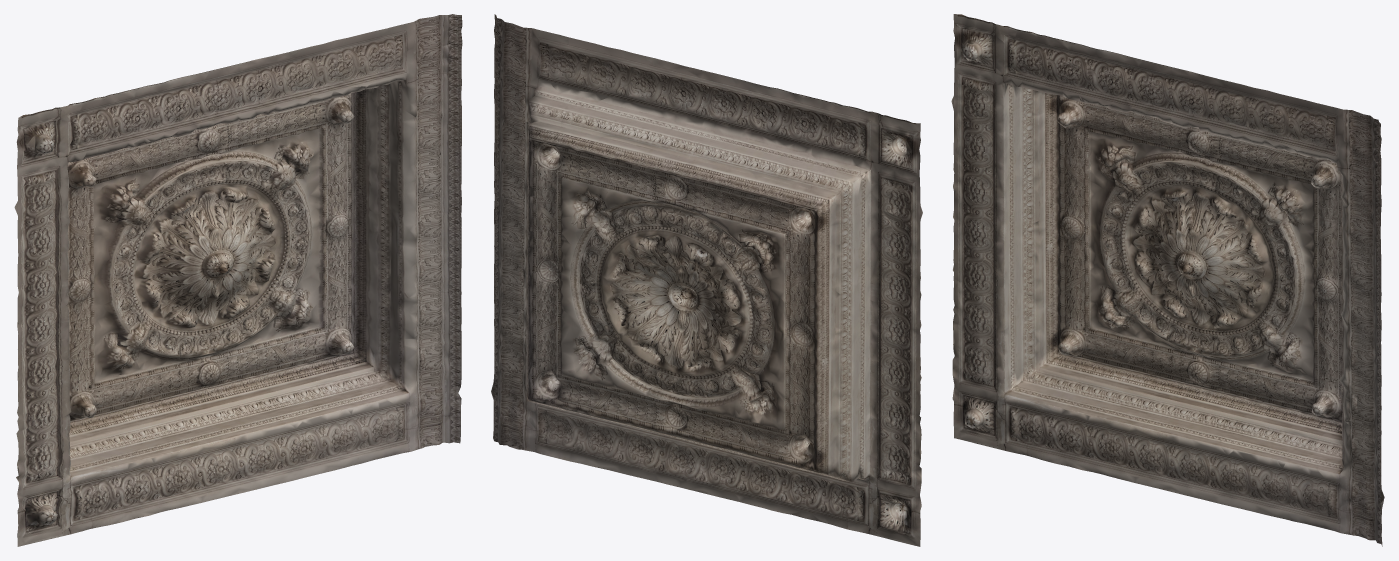
File: ceiling.glb
3 views of the same model, side by side, from view 1: azimuth 30°, elevation 25°; view 2: azimuth 150°, elevation 25°; view 3: azimuth 330°, elevation 25° (orthographic).
Visible parts, largest first — view 1: Object_2; view 2: Object_2; view 3: Object_2.
Part boxes in pixels (bbox=[...]): Object_2: bbox=[14, 14, 462, 546]; Object_2: bbox=[491, 14, 922, 546]; Object_2: bbox=[951, 14, 1384, 546].
Size of the model in its own units: 27.46 by 25.55 by 4.5.
Materials: 1 (1 with a texture image).
